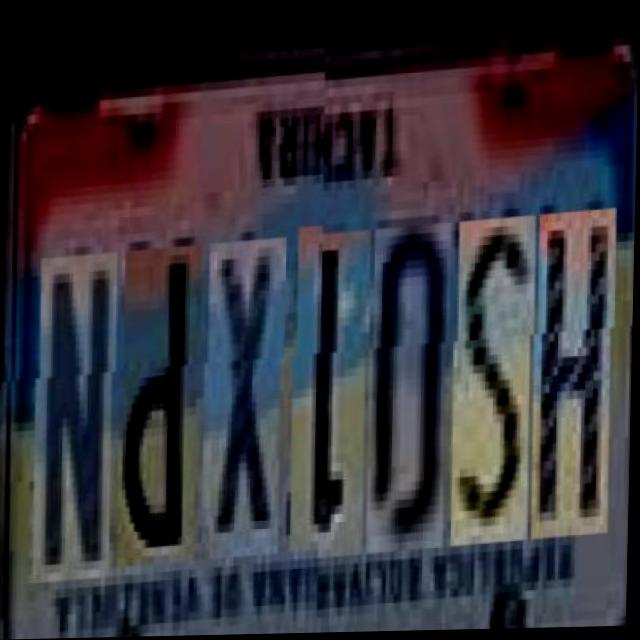0: (367, 214, 452, 543)
1: (291, 219, 372, 548)
h: (532, 202, 617, 531)
n: (33, 246, 118, 575)
p: (118, 239, 203, 561)
s: (451, 208, 536, 537)
x: (202, 233, 286, 554)
